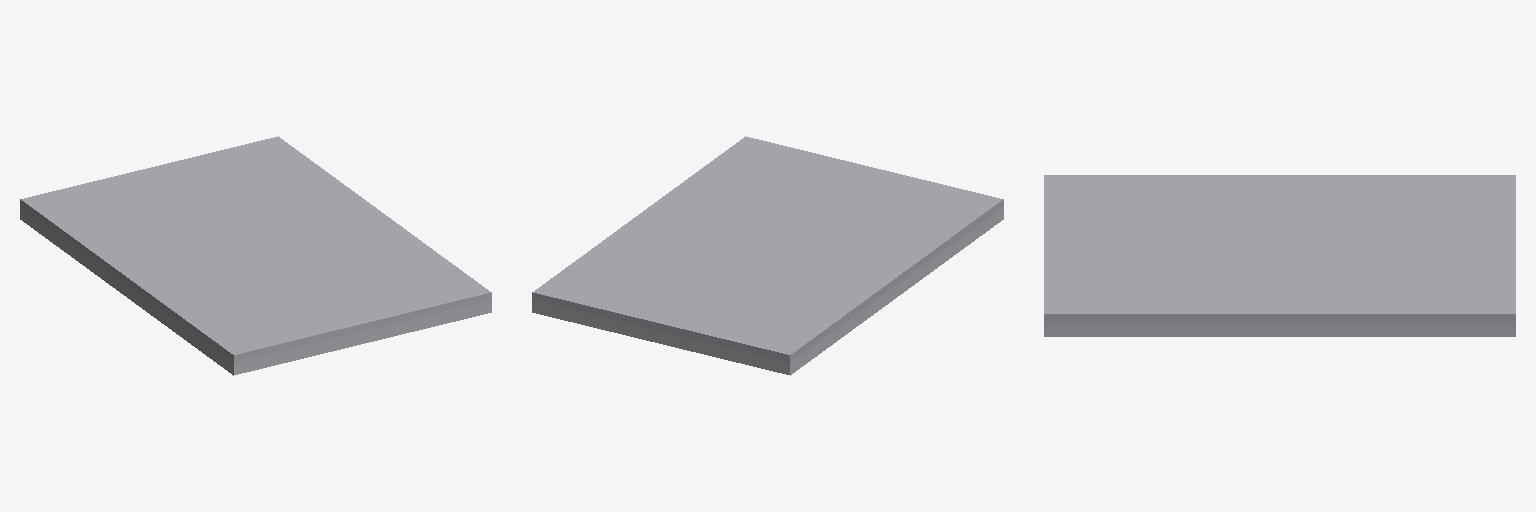
robot.urdf — macbook_laptop:
<robot name="macbook_laptop">
  <link name="world"/>
  <joint name="floating_base" type="floating">
    <parent link="world"/>
    <child link="base_link"/>
    <origin xyz="0 0 0" rpy="0 0 0"/>
  </joint>

  <link name="base_link">
    <visual>
      <origin xyz="0 0 0" rpy="0 0 0"/>
      <geometry>
        <box size="0.2124 0.3041 0.01"/>
      </geometry>
      <material name="silver">
        <color rgba="0.75 0.76 0.78 1.0"/>
      </material>
    </visual>
    <collision>
      <origin xyz="0 0 0" rpy="0 0 0"/>
      <geometry>
        <box size="0.2124 0.3041 0.01"/>
      </geometry>
    </collision>
    <inertial>
      <origin xyz="0 0 0" rpy="0 0 0"/>
      <mass value="0.9"/>
      <inertia ixx="0.006948" ixy="0.0" ixz="0.0" iyy="0.003388" iyz="0.0" izz="0.010302"/>
    </inertial>
  </link>

  <joint name="lid_hinge" type="revolute">
    <parent link="base_link"/>
    <child link="screen_link"/>
    <origin xyz="-0.1062 0 0.005" rpy="0 0 0"/>
    <axis xyz="0 -1 0"/>
    <limit lower="0.0" upper="1.95" effort="2.0" velocity="3.0"/>
    <dynamics damping="0.05" friction="0.05"/>
  </joint>

  <link name="screen_link">
    <visual>
      <origin xyz="0.1062 0 0.003" rpy="0 0 0"/>
      <geometry>
        <box size="0.2124 0.3041 0.006"/>
      </geometry>
      <material name="silver_dark">
        <color rgba="0.72 0.73 0.75 1.0"/>
      </material>
    </visual>
    <collision>
      <origin xyz="0.1062 0 0.003" rpy="0 0 0"/>
      <geometry>
        <box size="0.2124 0.3041 0.006"/>
      </geometry>
    </collision>
    <inertial>
      <origin xyz="0.1062 0 0.003" rpy="0 0 0"/>
      <mass value="0.5"/>
      <inertia ixx="0.003853" ixy="0.0" ixz="0.0" iyy="0.001875" iyz="0.0" izz="0.005723"/>
    </inertial>
  </link>
</robot>

--- What the picture shows (computed from the rendered views, not written in the file) ---
The picture shows the robot from 3 angles, left to right: view 1: azimuth 30°, elevation 25°; view 2: azimuth 150°, elevation 25°; view 3: azimuth 270°, elevation 25°; orthographic projection.
Model macbook_laptop with 3 links and 2 joints (1 revolute, 1 floating), rooted at world, posed every joint at zero.
Links seen in each view (by area): view 1: screen_link, base_link; view 2: screen_link, base_link; view 3: screen_link, base_link.
Link boxes in pixels (<box>): screen_link: <box>20,136,491,362</box>; base_link: <box>20,207,491,375</box>; screen_link: <box>532,136,1003,362</box>; base_link: <box>532,207,1003,375</box>; screen_link: <box>1044,175,1515,322</box>; base_link: <box>1044,323,1515,336</box>.
Bounding box of the posed robot: 0.2124 × 0.3041 × 0.016 m (x, y, z).
Geometry: primitives only (box / cylinder / sphere), no mesh files.
